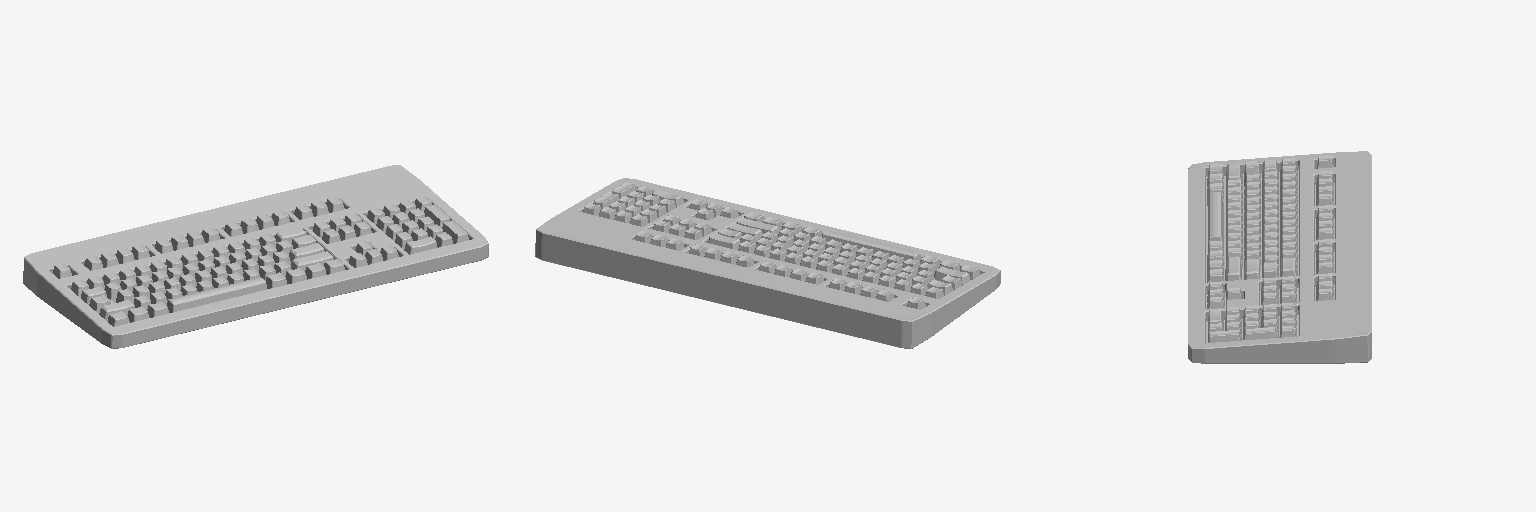
The model's file is Computer_Keyboard_Model.obj.
3 renders of one model, left to right at view 1: azimuth 30°, elevation 25°; view 2: azimuth 150°, elevation 25°; view 3: azimuth 270°, elevation 25°, orthographic.
Visible parts, largest first — view 1: keyboard_body keyboard_GRP, keyboard_GRP key_grp key_2; view 2: keyboard_body keyboard_GRP, keyboard_GRP key_grp key_2; view 3: keyboard_body keyboard_GRP, keyboard_GRP key_grp key_2.
Part boxes in pixels (x1,y1,x2,y2): keyboard_body keyboard_GRP: (23, 165, 488, 348); keyboard_GRP key_grp key_2: (167, 277, 266, 312); keyboard_body keyboard_GRP: (535, 178, 1000, 348); keyboard_GRP key_grp key_2: (822, 231, 920, 261); keyboard_body keyboard_GRP: (1188, 151, 1371, 363); keyboard_GRP key_grp key_2: (1208, 192, 1223, 248).
Bounding box in the file's own units: 8.69 × 0.6508 × 3.64.